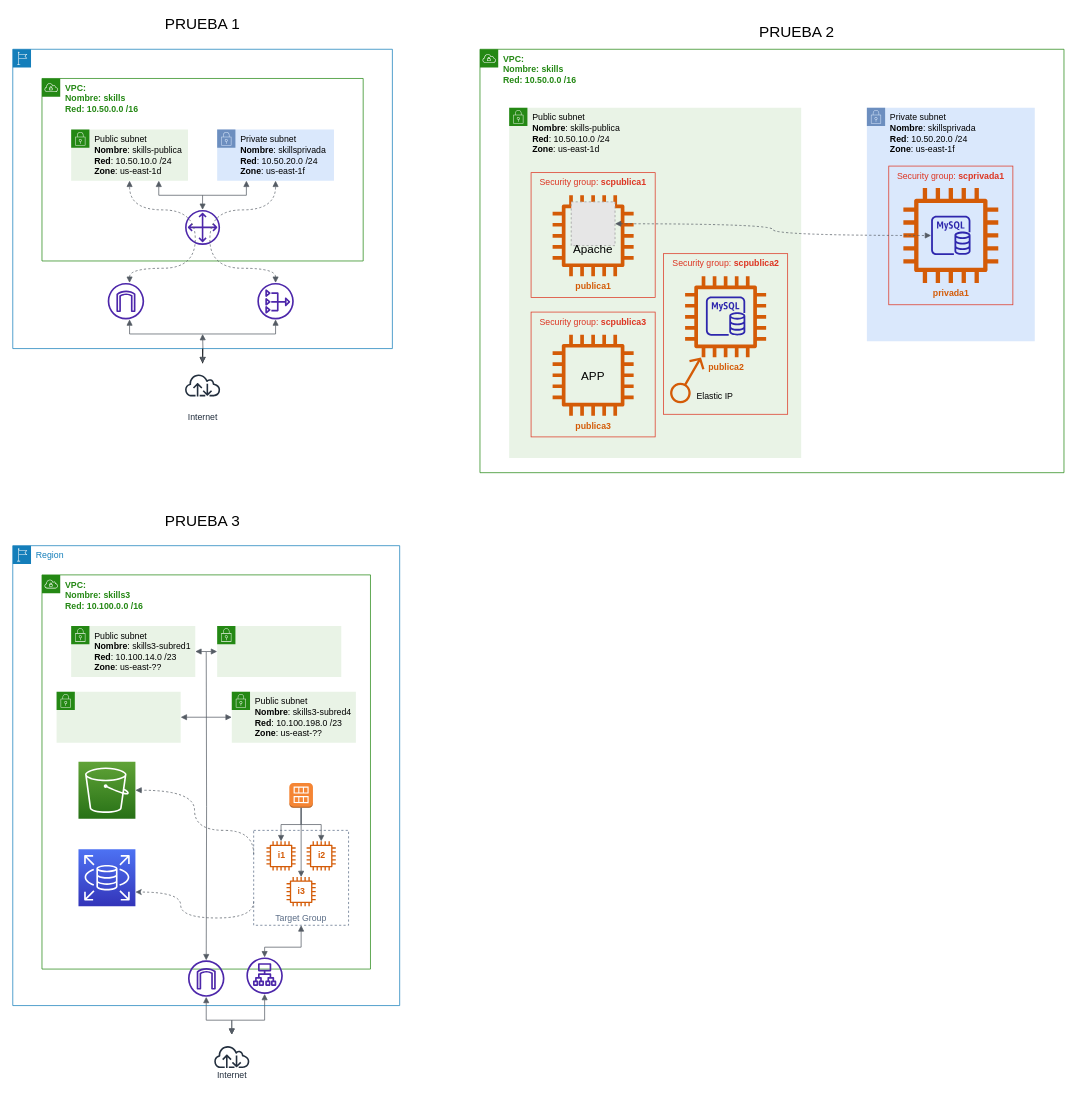
The diagram is 1077 pixels wide and 1093 high, and some of its shapes have lost their labels. Grey dashed boxes stand in for pictures. The shapes that lost their labels are listed below. From the top down, each one's centre as x and y in pixels, then its label:
pixel 125 301: Internet-Gw Nombre : skills-igw
pixel 275 301: NAT - Gateway Nombre : skills-nat-gw
pixel 278 651: Public subnet Nombre : skills3-subred2 Red : 10.100.96.0 /23 Zone : us-east-??
pixel 118 717: Public subnet Nombre : skills3-subred3 Red : 10.100.136.0 /23 Zone : us-east-??
pixel 106 790: euskoskills23-ikasle-X
pixel 301 795: AMI euskoskills23-ikasle-X
pixel 106 877: skills3-rds
pixel 206 978: Internet-Gw Nombre : skills3-igw
pixel 264 975: Load Balancer Nombre : euskoskills23 Puerto : 8080
